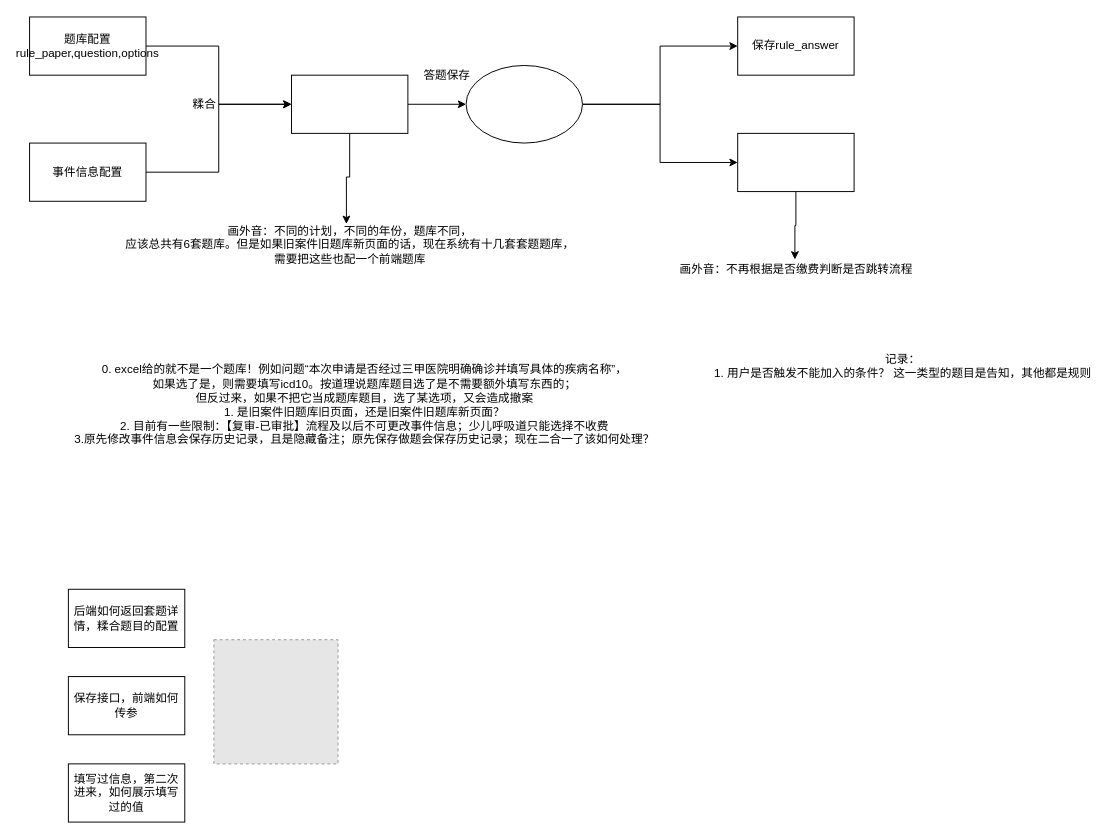
This 1114x839 diagram has some shape labels left out. Grey dashed boxes stand in for pictures. The shapes that lost their labels are listed below. From the top down, each one's centre as x and y in pixels, then its label:
At (x=349, y=103): "展示在前端的题库".
At (x=523, y=104): "计算最高互助金".
At (x=795, y=162): "保存detail、info表的最高互助金、确诊时间、ICD10等信息".
